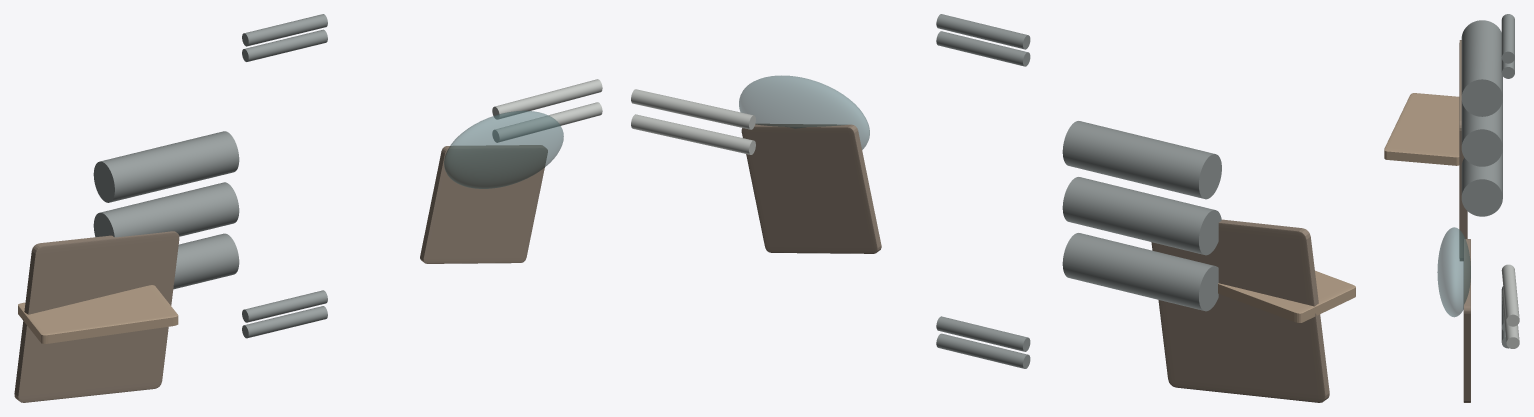
Rendered from d-x04-dominion-aero-lod2.glb.
3 views of the same model, side by side, from view 1: azimuth 30°, elevation 25°; view 2: azimuth 150°, elevation 25°; view 3: azimuth 270°, elevation 25° (orthographic). The views are drawn at different scales.
Parts seen in each view (by area): view 1: combat_tailplane_-1, canard_-1, combat_canopy, combat_engine_2, combat_fin_-1, combat_engine_1, combat_engine_0, combat_gun_barrel_1, combat_gun_barrel_0, combat_-1_tube_2, combat_1_tube_2, combat_-1_tube_1 (+1 smaller); view 2: combat_tailplane_-1, canard_-1, combat_engine_2, combat_engine_1, combat_engine_0, combat_canopy, combat_fin_-1, combat_gun_barrel_0, combat_gun_barrel_1, combat_-1_tube_1, combat_-1_tube_2, combat_1_tube_1 (+1 smaller); view 3: combat_fin_-1, combat_engine_2, combat_canopy, combat_engine_1, combat_engine_0, canard_-1, combat_tailplane_-1, combat_gun_barrel_1, combat_1_tube_2, combat_gun_barrel_0, combat_1_tube_1.
Boxes of the visible parts, x1,y1,x2,y2 form: combat_tailplane_-1: (14, 231, 179, 402); canard_-1: (420, 145, 547, 263); combat_canopy: (444, 110, 563, 188); combat_engine_2: (93, 131, 239, 202); combat_fin_-1: (18, 285, 178, 343); combat_engine_1: (93, 182, 239, 237); combat_engine_0: (173, 233, 239, 289); combat_gun_barrel_1: (492, 79, 602, 119); combat_gun_barrel_0: (492, 102, 602, 142); combat_-1_tube_2: (242, 290, 327, 322); combat_1_tube_2: (242, 14, 327, 46); combat_-1_tube_1: (242, 306, 327, 338); combat_tailplane_-1: (1151, 219, 1329, 402); canard_-1: (741, 124, 881, 253); combat_engine_2: (1062, 121, 1221, 199); combat_engine_1: (1062, 177, 1221, 255); combat_engine_0: (1062, 233, 1218, 311); combat_canopy: (739, 75, 869, 149); combat_fin_-1: (1218, 270, 1355, 322); combat_gun_barrel_0: (631, 114, 755, 154); combat_gun_barrel_1: (631, 89, 755, 129); combat_-1_tube_1: (936, 333, 1030, 368); combat_-1_tube_2: (936, 316, 1030, 351); combat_1_tube_1: (936, 31, 1030, 66); combat_fin_-1: (1384, 93, 1459, 165); combat_engine_2: (1461, 20, 1502, 116); combat_canopy: (1437, 227, 1470, 317); combat_engine_1: (1461, 99, 1502, 166); combat_engine_0: (1461, 149, 1502, 216); canard_-1: (1463, 239, 1470, 402); combat_tailplane_-1: (1459, 40, 1467, 260); combat_gun_barrel_1: (1501, 264, 1519, 326); combat_1_tube_2: (1501, 14, 1514, 63); combat_gun_barrel_0: (1501, 289, 1519, 348); combat_1_tube_1: (1501, 58, 1514, 78).
Size of what is drawn, in the model's own units: 16.67 by 8.08 by 3.29.
